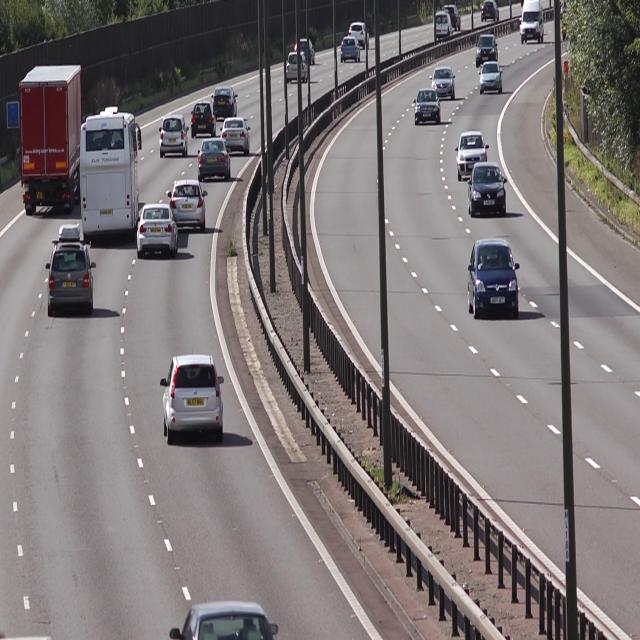Car: (23, 64, 83, 214), (79, 108, 143, 236), (160, 354, 227, 444), (468, 235, 520, 320), (46, 225, 96, 313), (138, 202, 178, 256), (467, 163, 505, 216), (171, 182, 210, 232), (456, 130, 488, 181), (197, 138, 232, 184), (158, 114, 189, 159), (221, 119, 252, 156), (521, 0, 545, 47), (414, 87, 443, 125), (191, 98, 217, 140), (478, 63, 504, 99), (285, 49, 309, 88), (213, 85, 240, 119), (476, 31, 500, 68), (432, 66, 457, 101), (340, 36, 362, 65)
